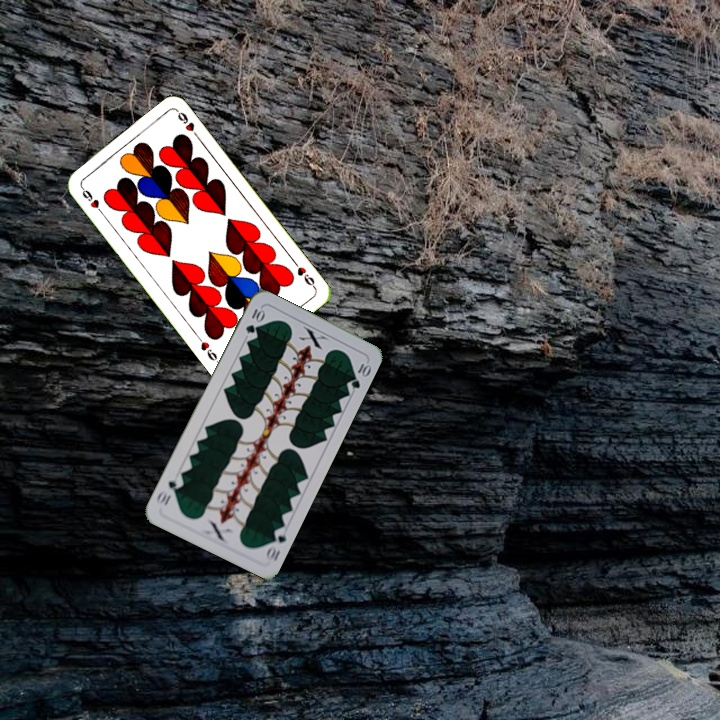G10: (261, 523, 290, 564), (241, 303, 267, 336)
H9: (289, 256, 318, 291), (77, 182, 106, 217)
